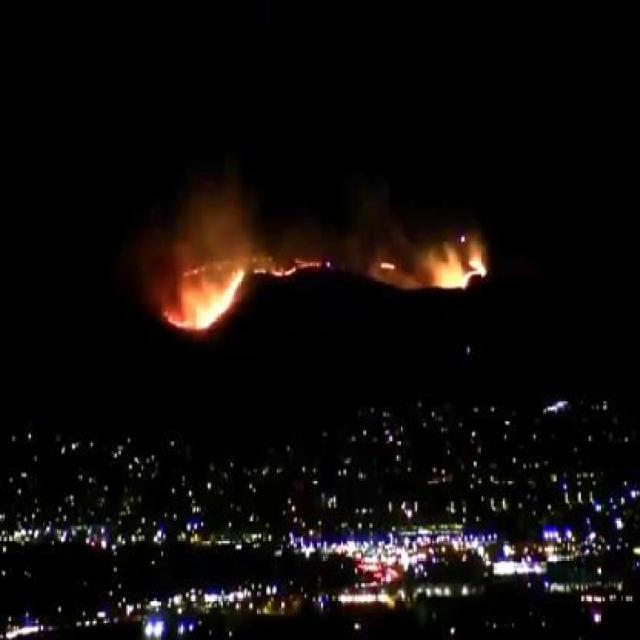Fire: (184, 268, 247, 334), (434, 254, 488, 291), (254, 254, 318, 277), (160, 310, 183, 330), (380, 262, 396, 272)
